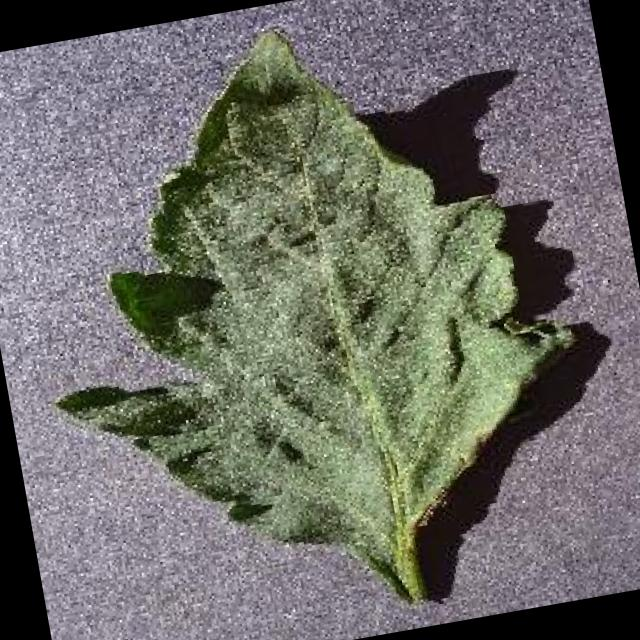Tomato_Healthy: (0, 0, 600, 629)
